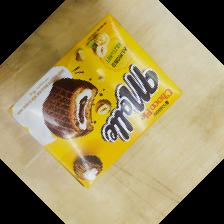Molle: (6, 14, 182, 189)
